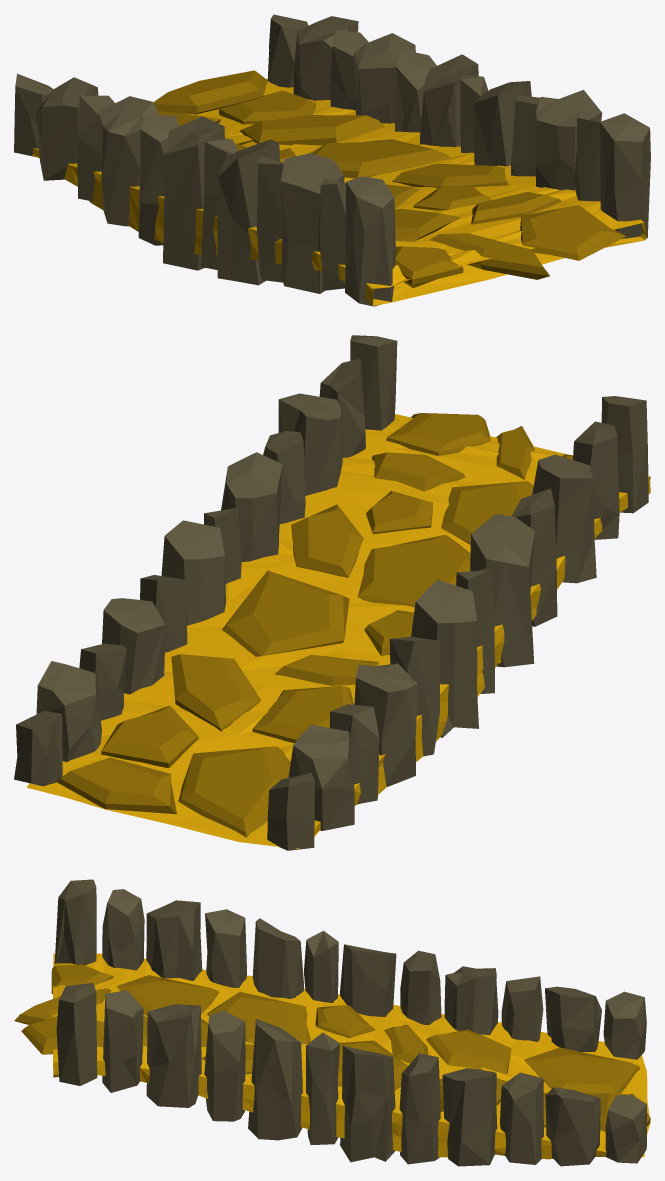
The model's file is stm_env_BridgeSide1.fbx.
3 renders of one model, top to bottom at view 1: azimuth 30°, elevation 25°; view 2: azimuth 150°, elevation 25°; view 3: azimuth 270°, elevation 25°, orthographic. The views are drawn at different scales.
Visible parts, largest first — view 1: Bridge_Side_1; view 2: Bridge_Side_1; view 3: Bridge_Side_1.
Boxes of the visible parts, x1,y1,x2,y2 form: Bridge_Side_1: (14,14,650,306); Bridge_Side_1: (14,335,650,850); Bridge_Side_1: (14,879,650,1166).
Bounding box in the file's own units: 521 × 333 × 1116.
